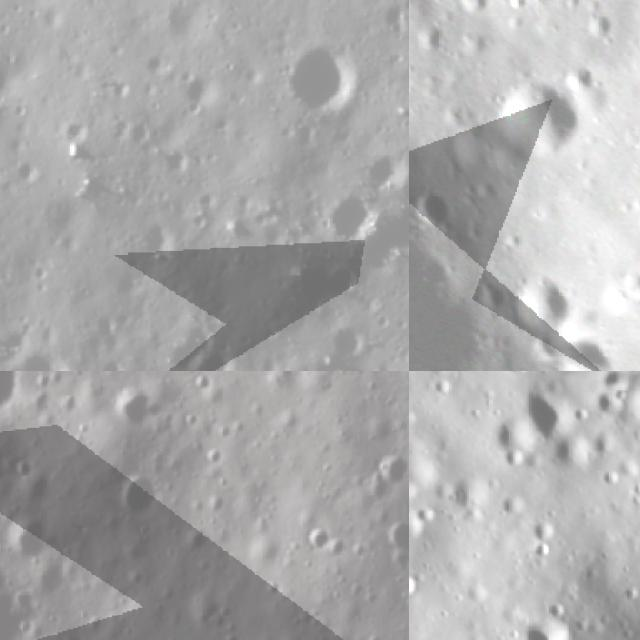crater: (476, 55, 606, 187), (282, 36, 366, 120), (502, 265, 584, 348), (506, 374, 583, 454), (409, 168, 471, 247), (313, 190, 387, 249), (291, 256, 365, 314), (573, 0, 630, 56), (163, 306, 212, 371), (368, 195, 409, 263), (114, 469, 166, 521), (1, 520, 50, 574), (409, 18, 459, 67), (109, 385, 161, 431), (507, 609, 576, 640), (0, 579, 35, 640), (362, 144, 409, 189), (21, 337, 82, 371), (329, 315, 370, 364), (178, 67, 221, 113), (444, 0, 501, 30), (380, 517, 409, 573), (296, 517, 336, 557), (475, 282, 513, 322), (377, 448, 409, 494), (539, 594, 572, 626), (409, 505, 433, 547), (409, 563, 427, 609), (0, 438, 18, 481), (187, 371, 216, 396), (0, 26, 13, 59)
